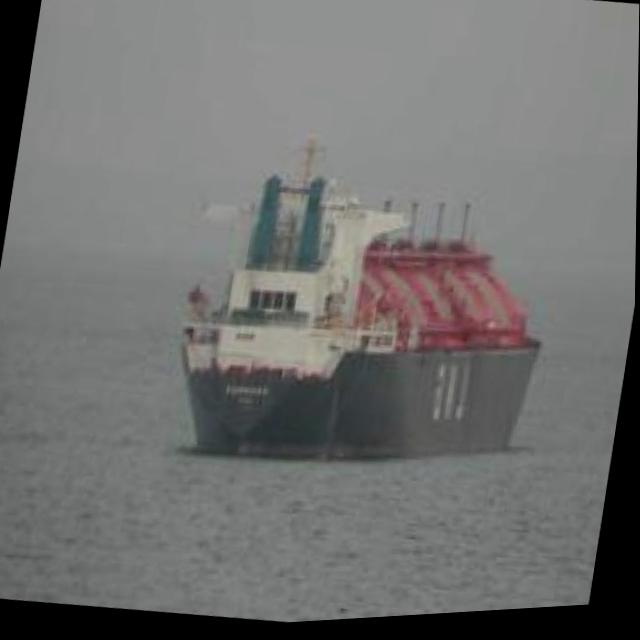ship2: (180, 139, 544, 469)
